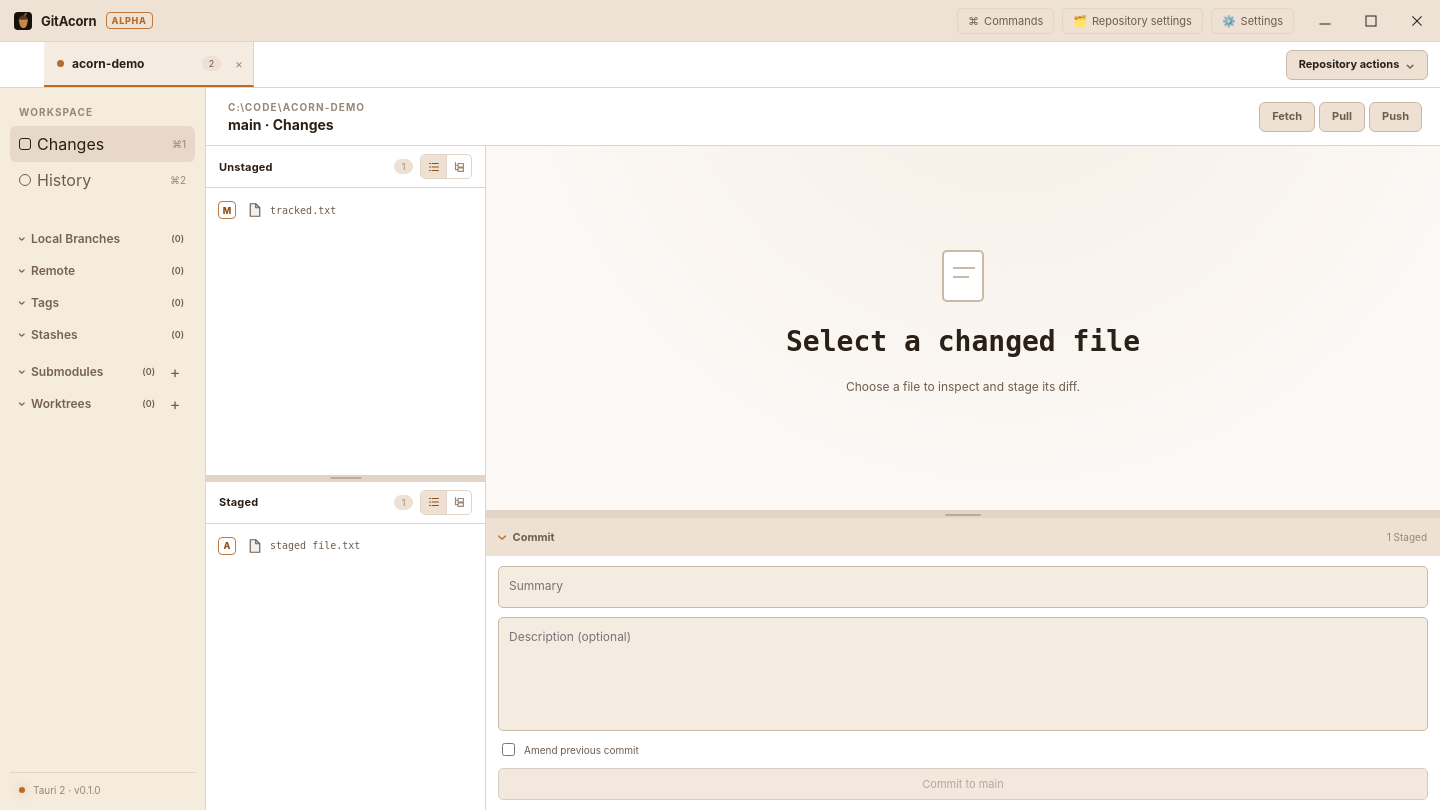
App › clears a previous interactive rebase error when retrying
expect the text "acorn-demo" is shown: met, box [72,57,144,70]
Click the button "History ⌘2" at (102, 180), box [10,162,195,198]
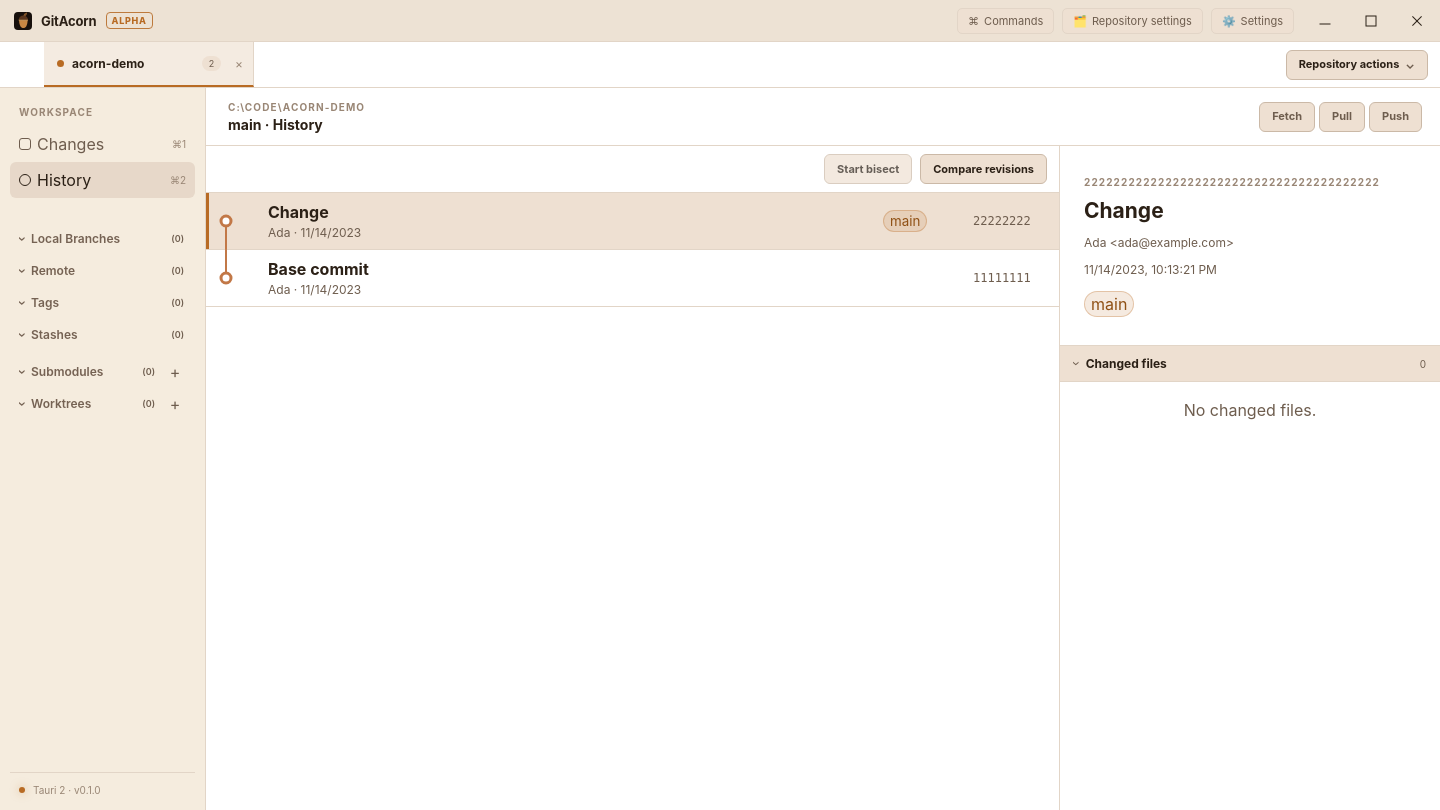
Right-click the button "Base commit Ada · 11/14/2023 11111111" at (236, 278), box [206,250,1059,307]
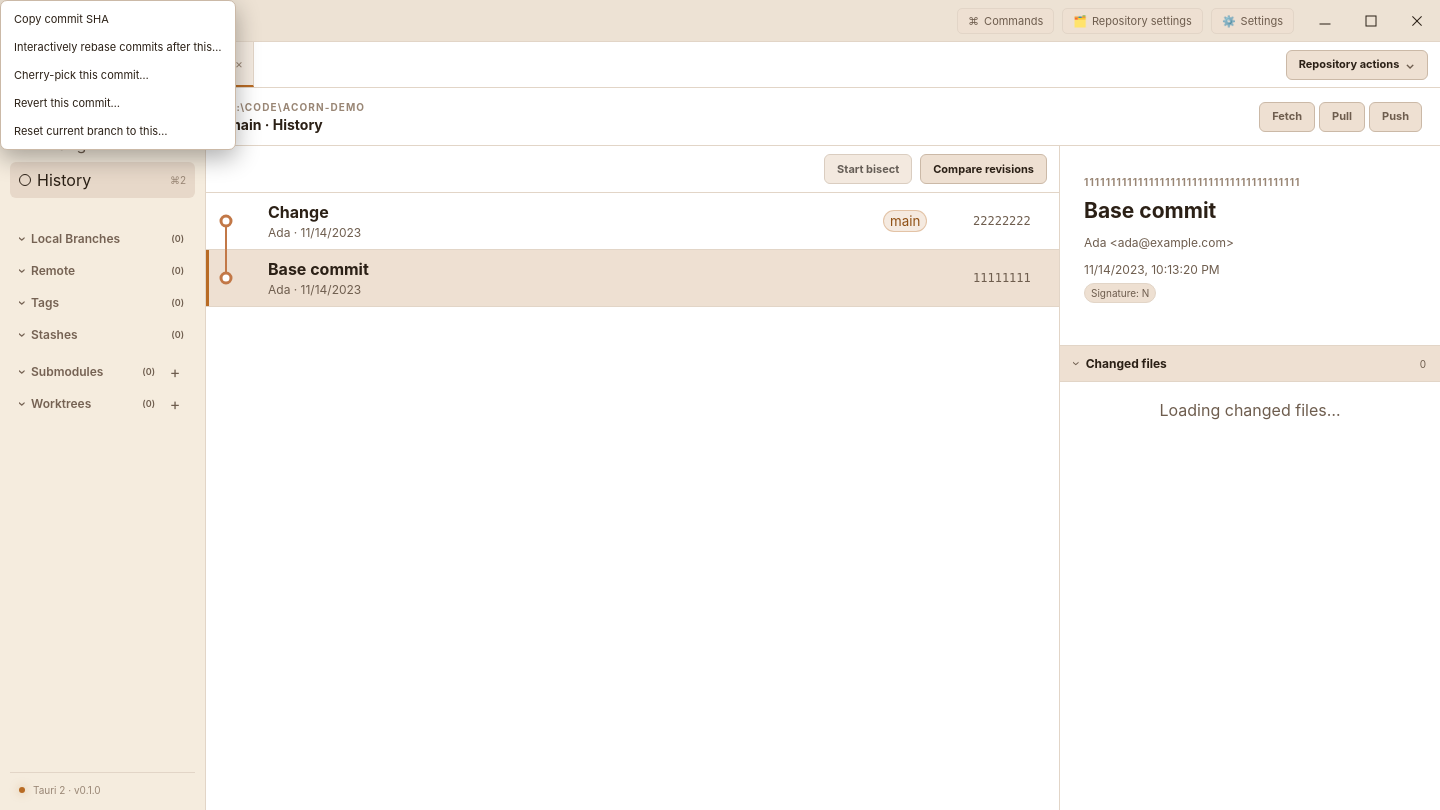
Click the menu item "Interactively rebase commits after this…" at (118, 47), box [5,33,231,61]
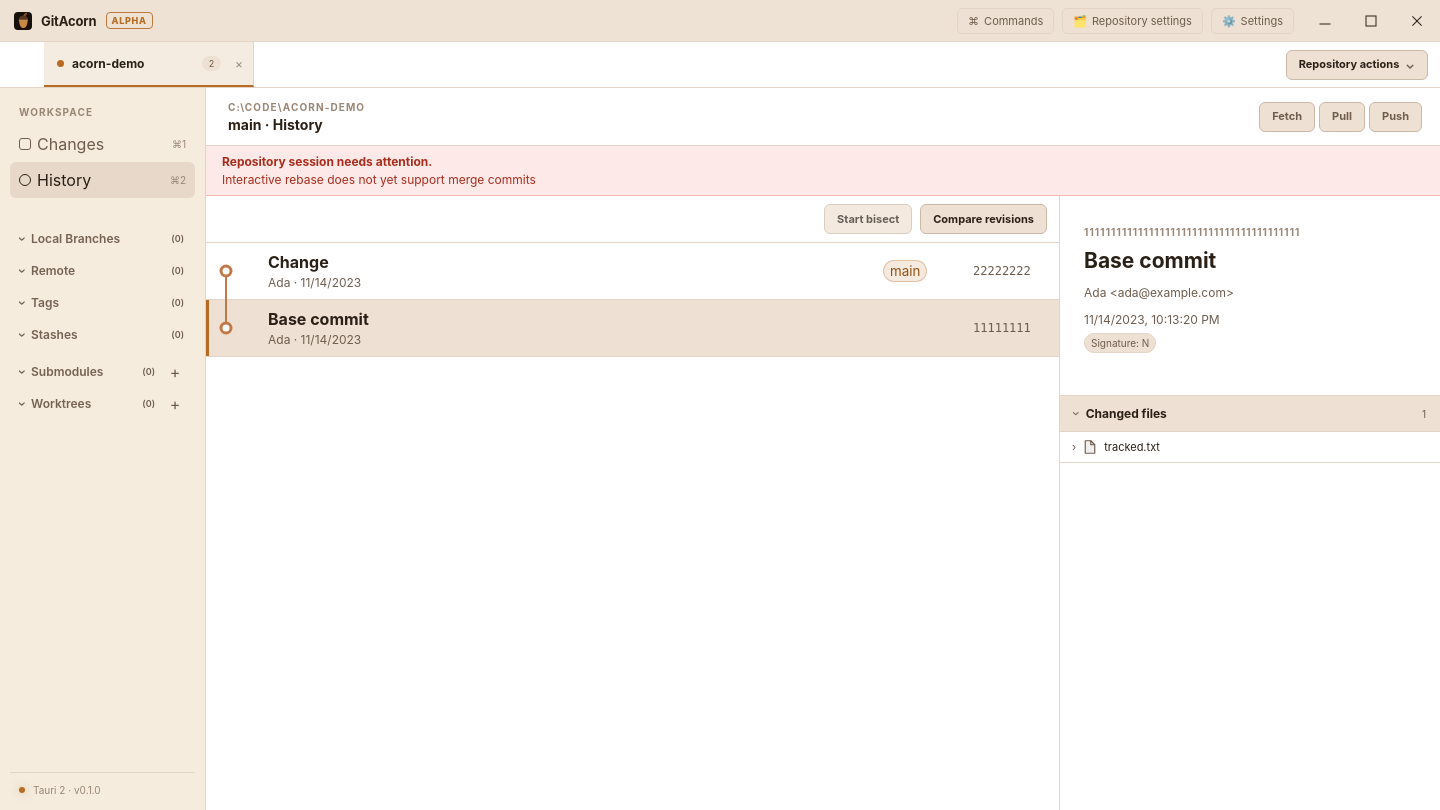
expect the message that starts with "Repository session needs attention." shows "Interactive rebase does not yet support merge commits": met, box [222,172,536,187]
Right-click the button "Base commit Ada · 11/14/2023 11111111" at (236, 328), box [206,300,1059,357]
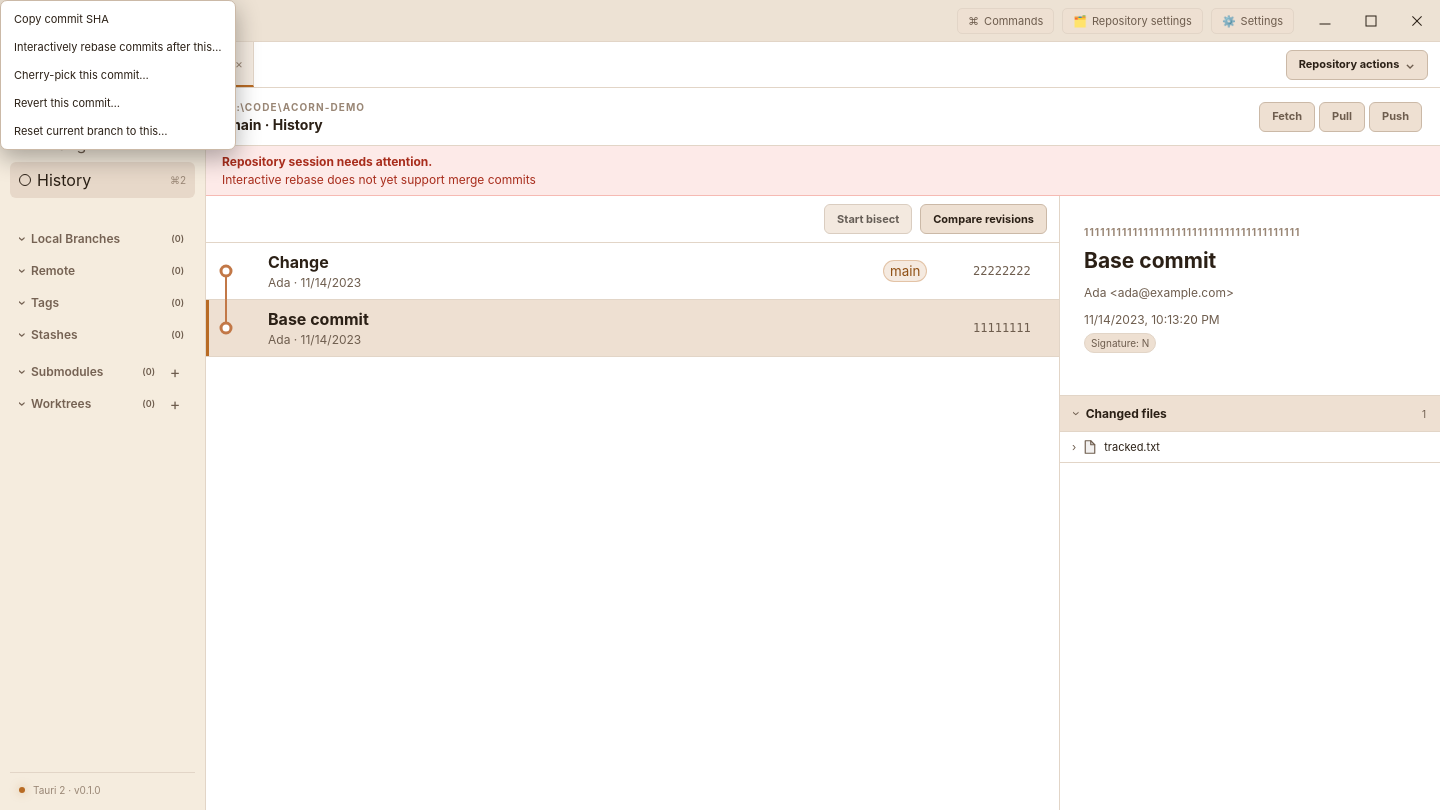
Click the menu item "Interactively rebase commits after this…" at (118, 47), box [5,33,231,61]
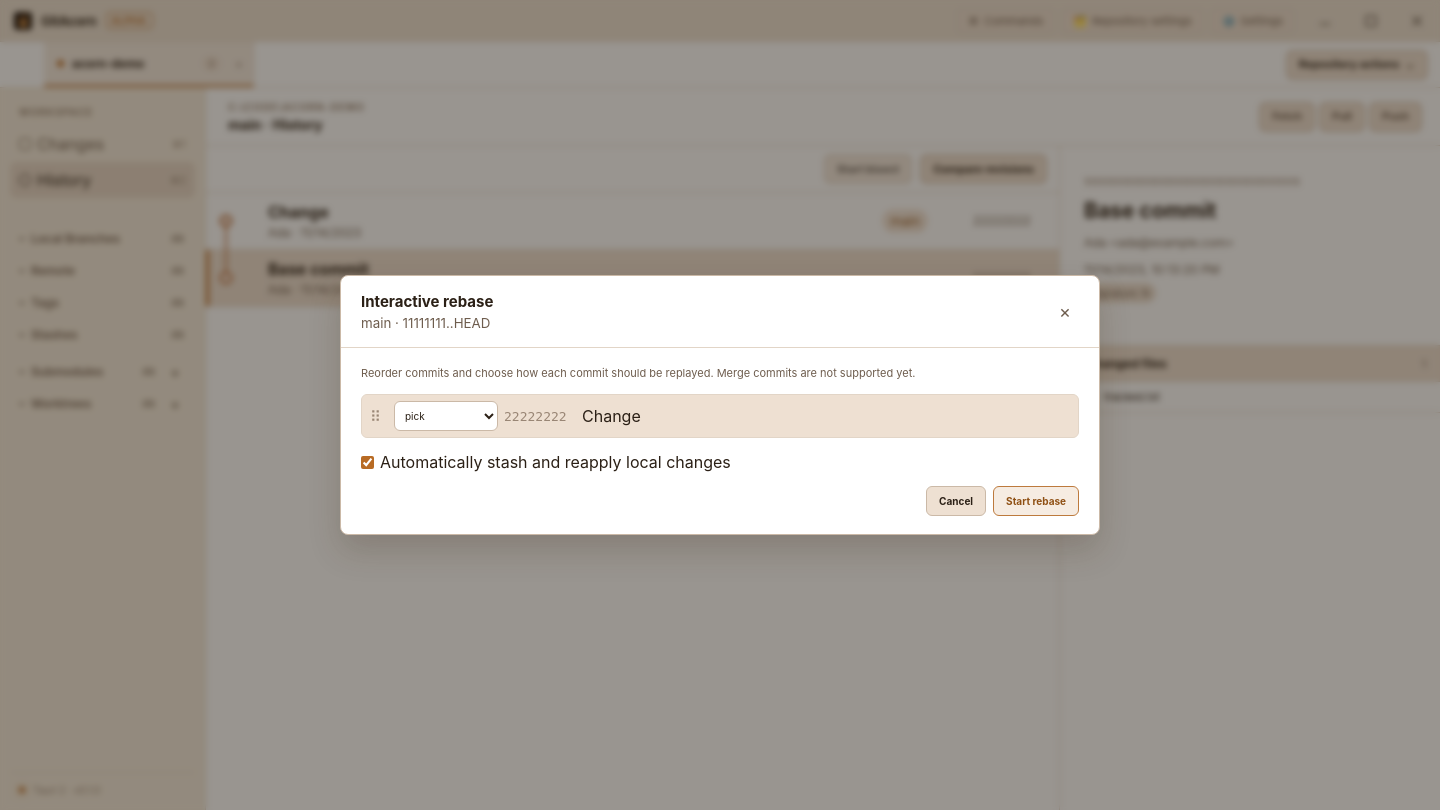
expect the dialog "Interactive rebase" is shown: met, box [340,275,1100,535]
